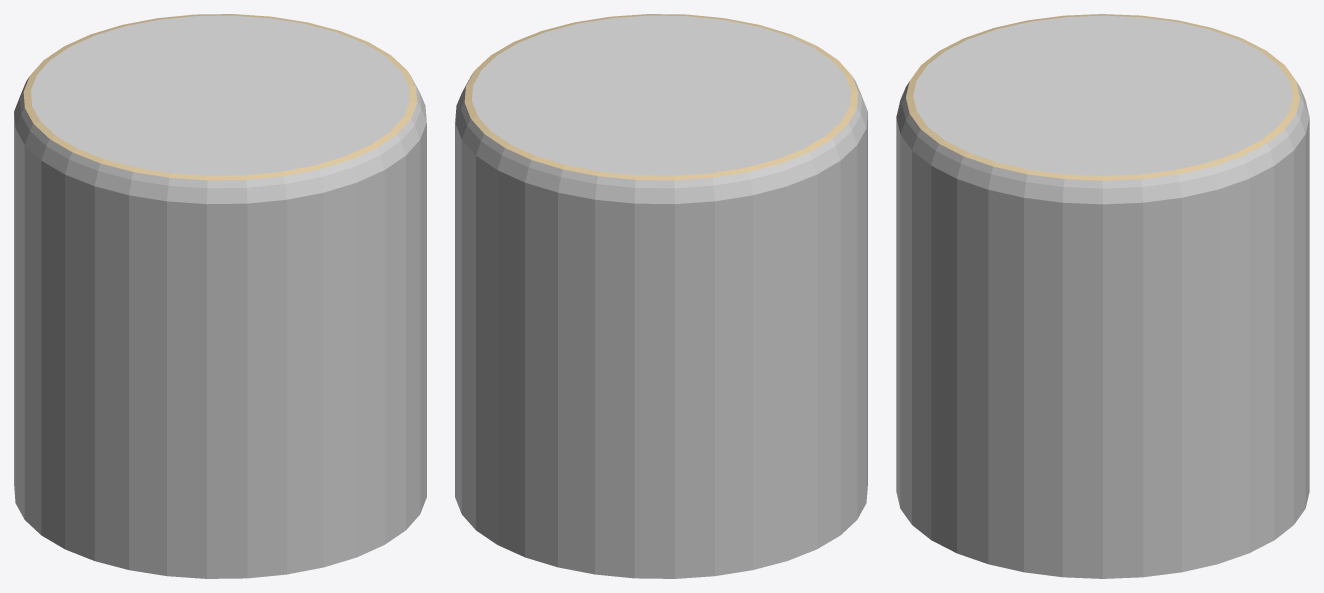
The model's file is Thing.fbx.
3 renders of one model, left to right at view 1: azimuth 30°, elevation 25°; view 2: azimuth 150°, elevation 25°; view 3: azimuth 270°, elevation 25°, orthographic.
Parts seen in each view (by area): view 1: Cylinder; view 2: Cylinder; view 3: Cylinder.
Boxes of the visible parts, x1,y1,x2,y2 form: Cylinder: (14,14,426,578); Cylinder: (455,14,867,578); Cylinder: (896,14,1309,578).
Bounding box in the file's own units: 200 × 211 × 200.
